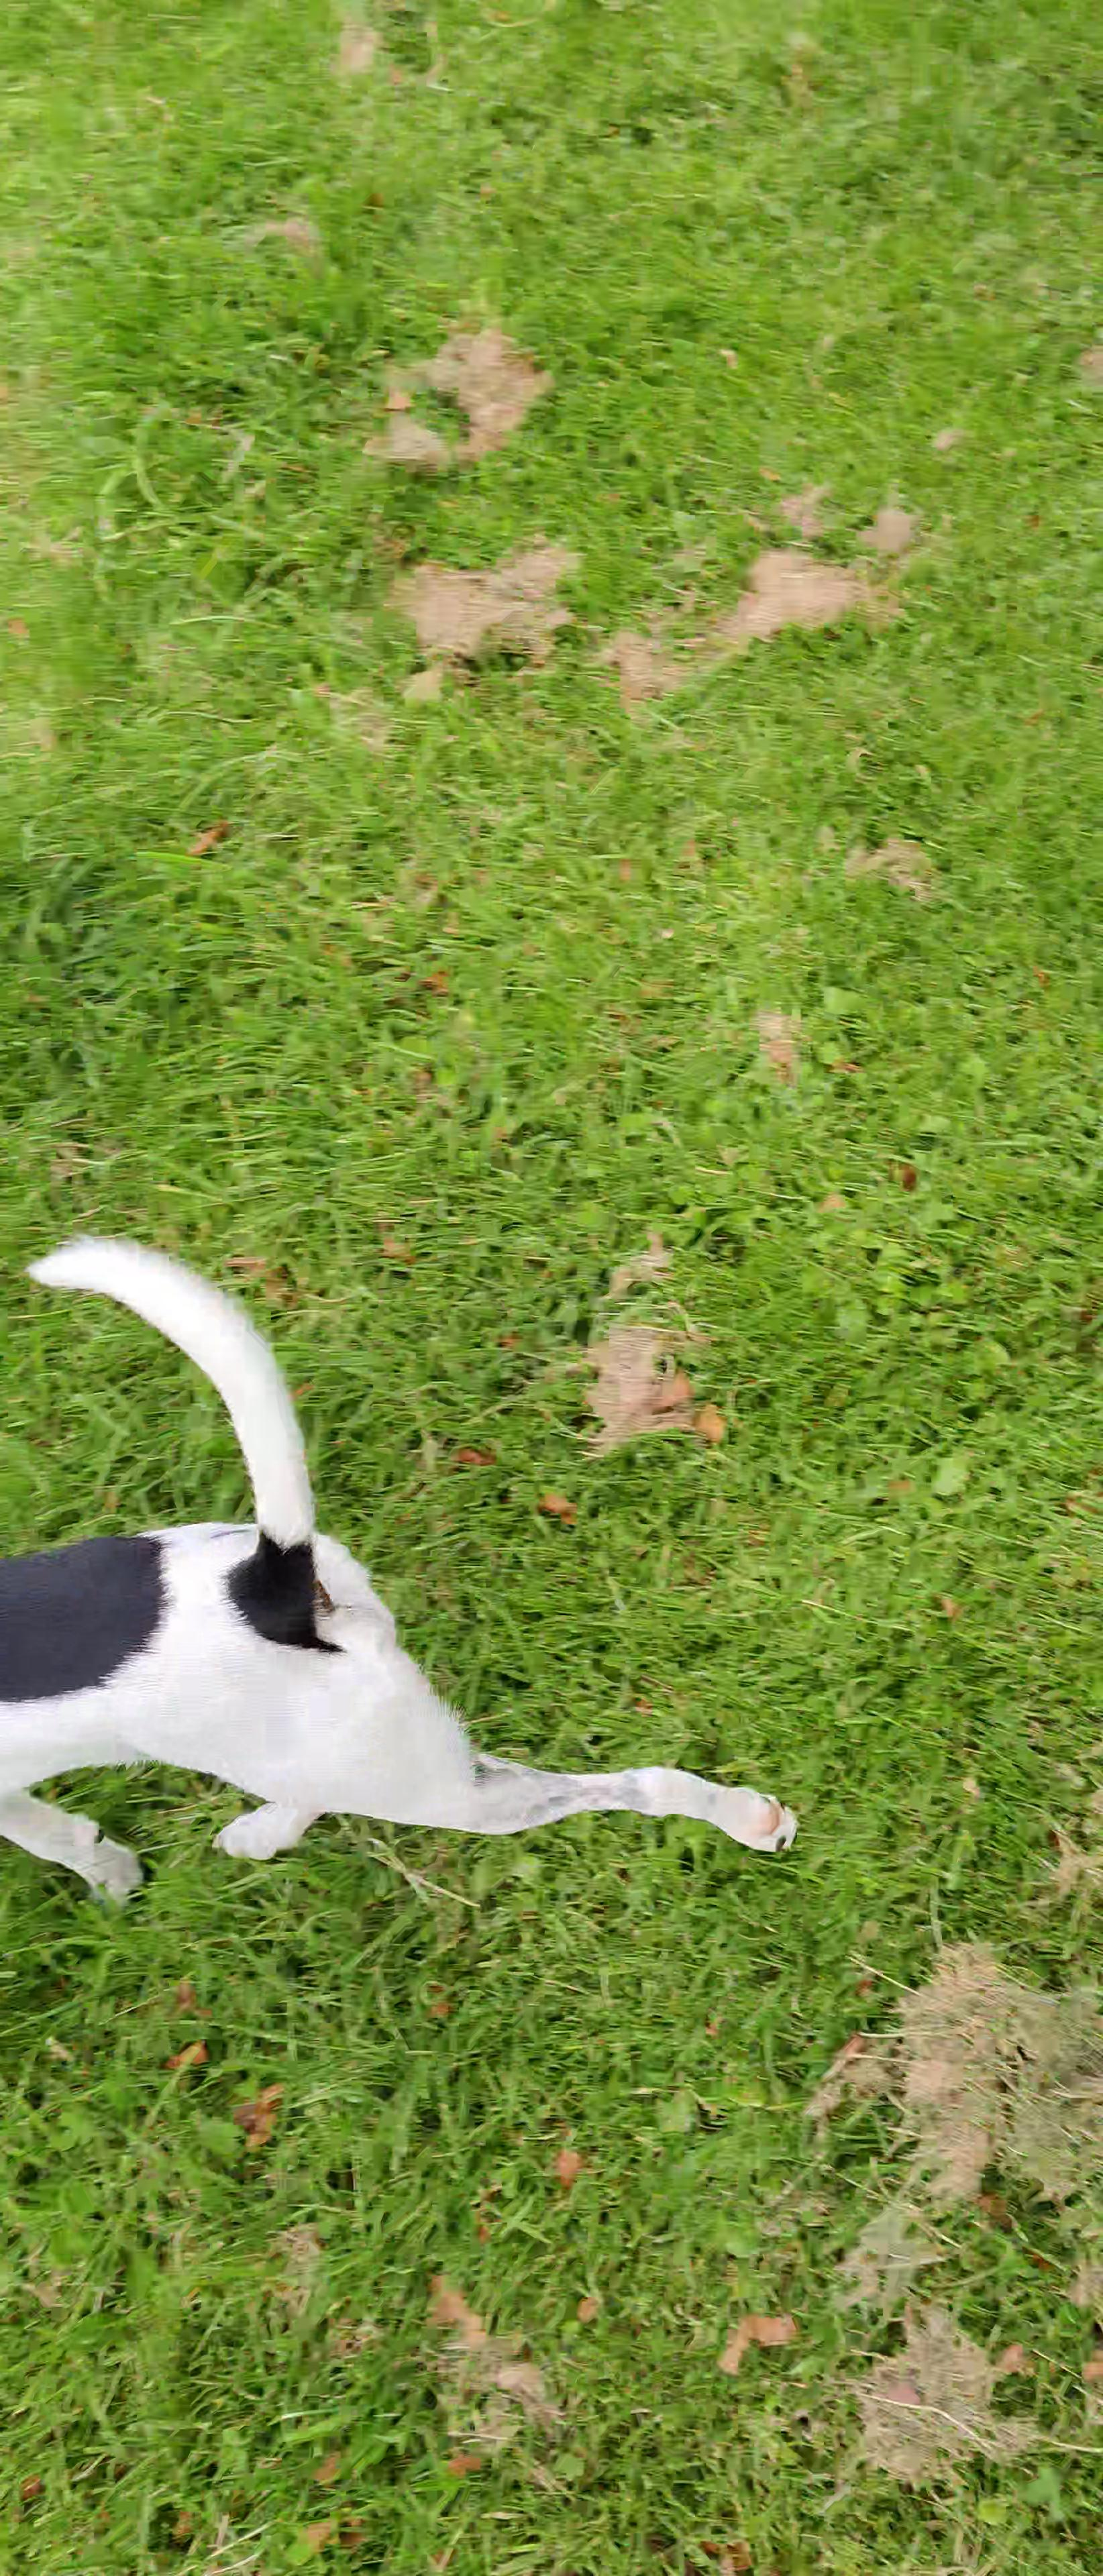Dog: (0, 1196, 865, 1942)
